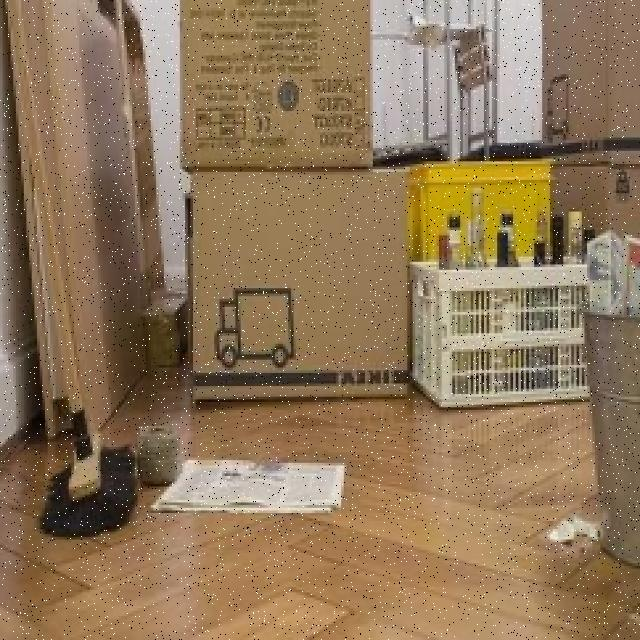box: (183, 167, 410, 400), (174, 0, 383, 164), (410, 261, 586, 416), (395, 153, 554, 271), (540, 0, 640, 156), (540, 150, 640, 280)
